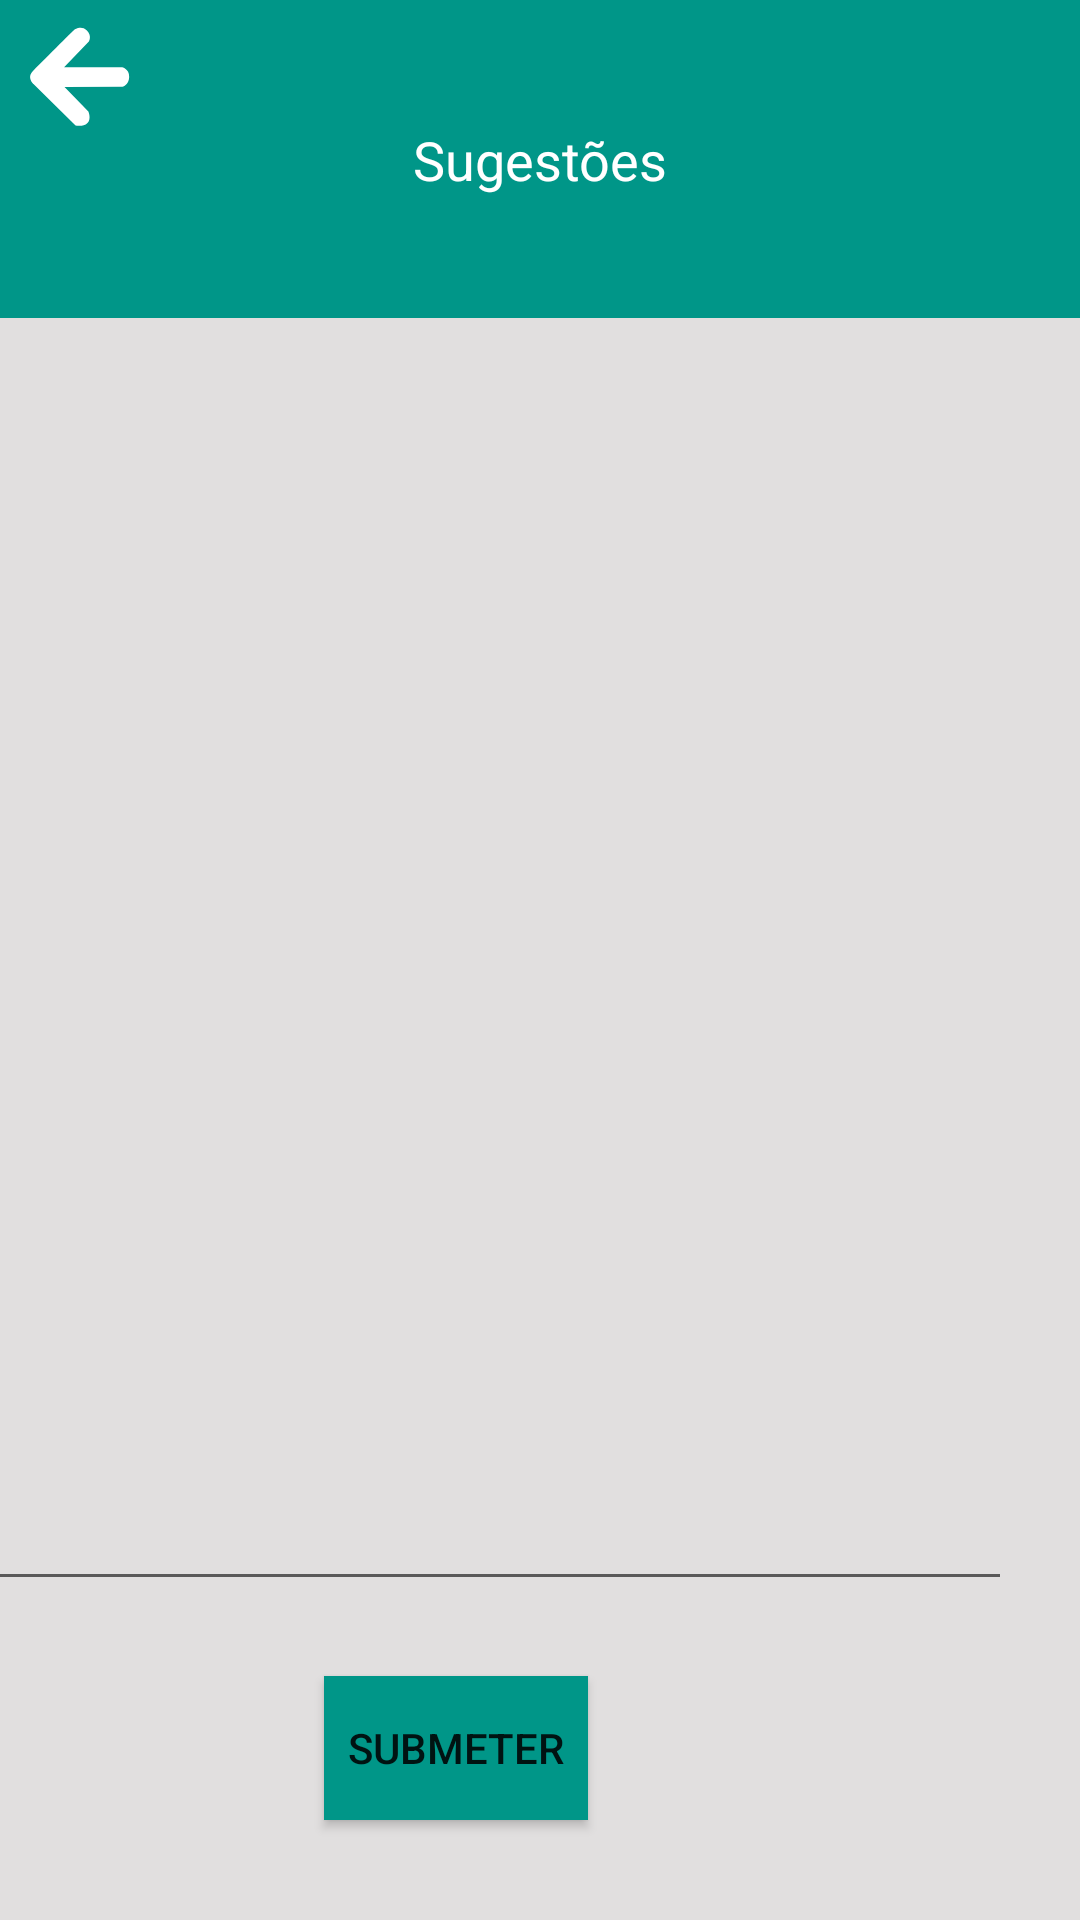

Screen size 1080w x 1920h. Icon name, then its center in pixels as point (x, y):
seta: point (80, 76)
